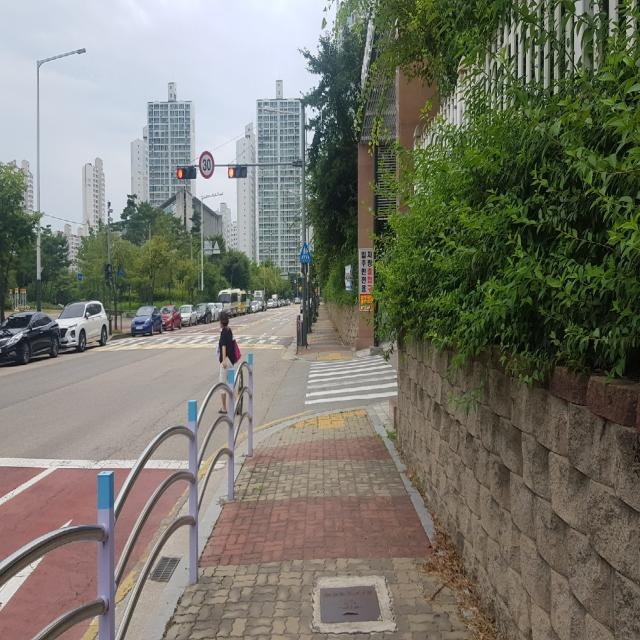횡단보도: (304, 354, 398, 406), (238, 338, 289, 351), (123, 338, 212, 345)
